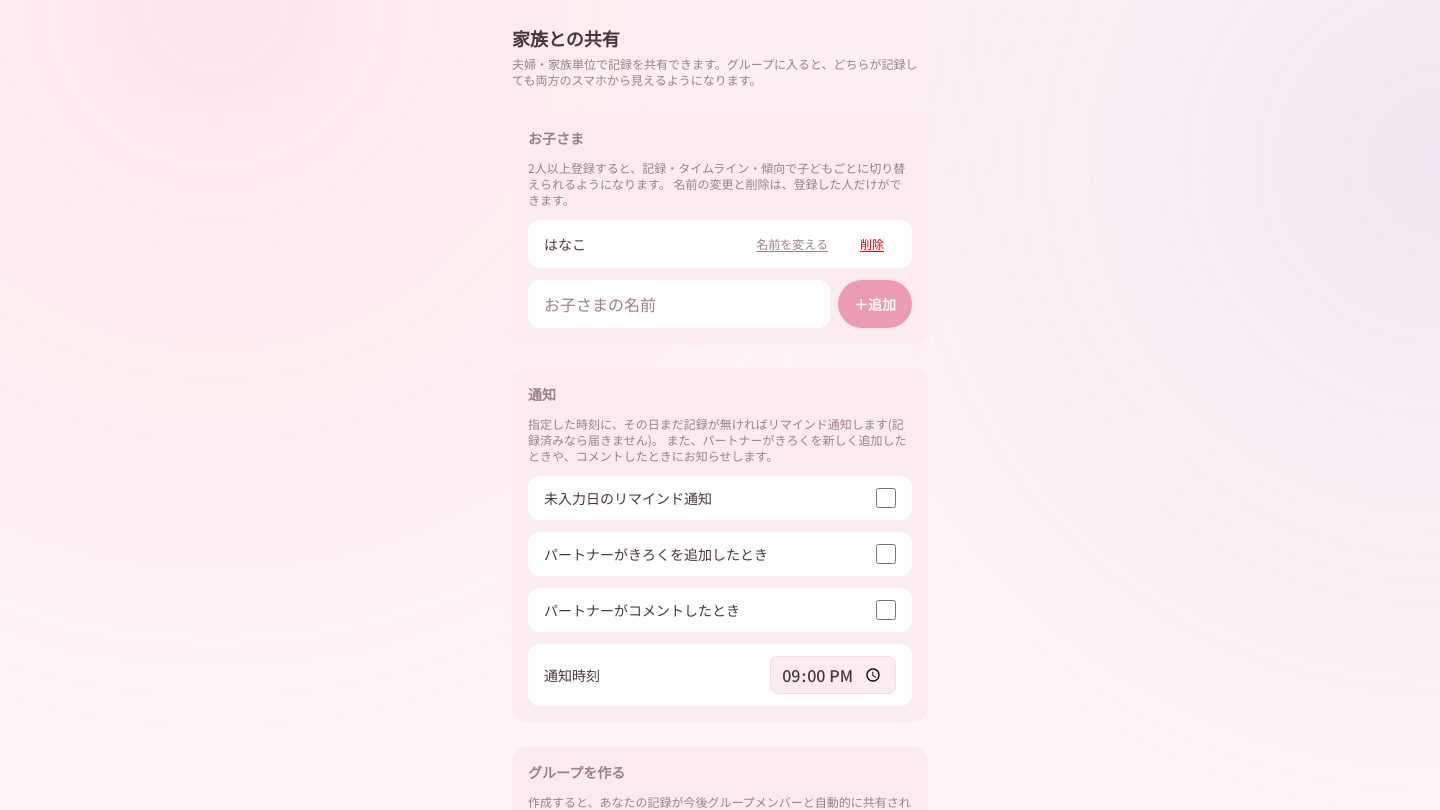
Test: GroupPage: お子さま › 名前を変えると一覧が更新され、編集欄が閉じる
The image size is (1440, 810).
Expected: the text "はなこ" is shown, [544,234,586,254]
Step 1. Click the button "名前を変える" → click(792, 244), box [744,232,840,256]
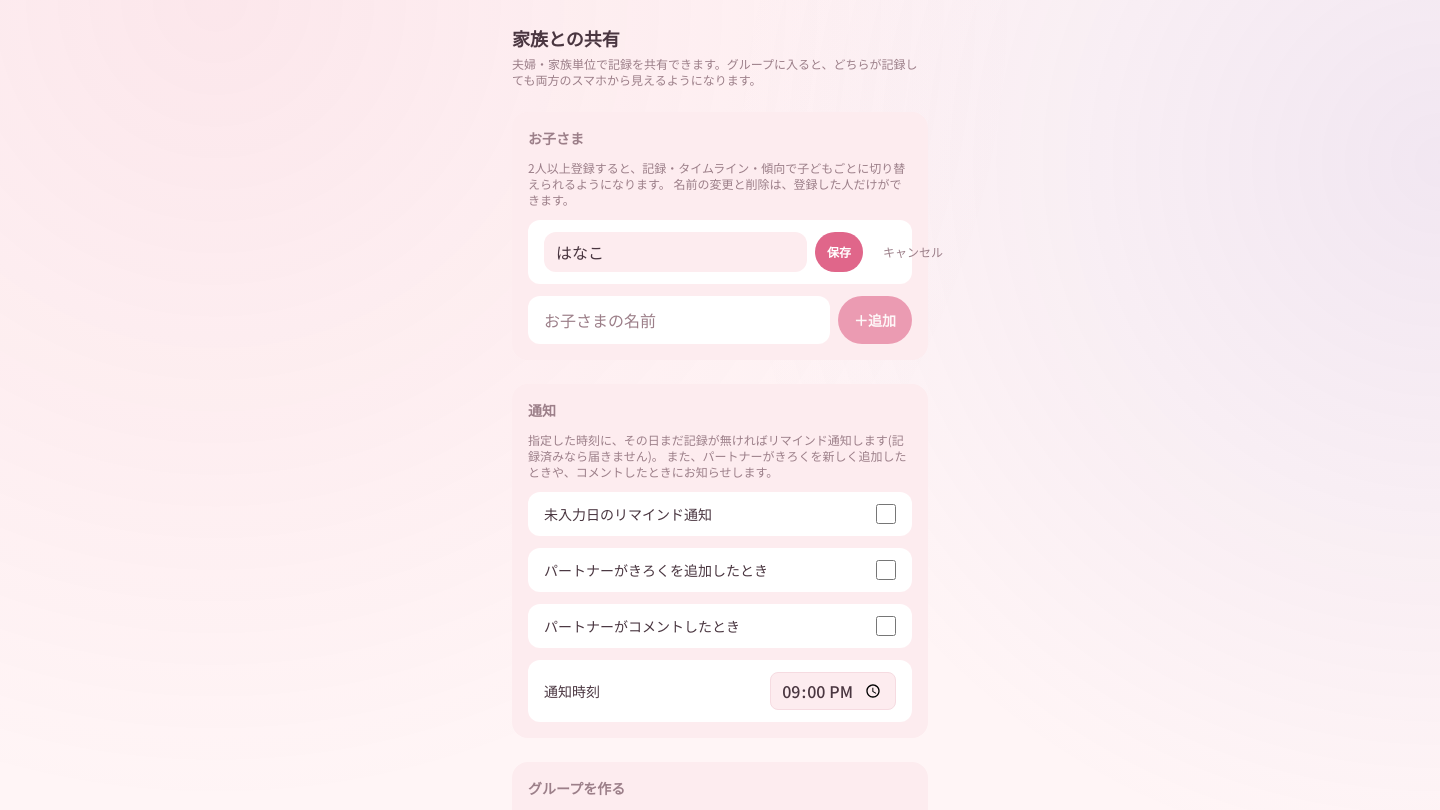
Step 2. Replace the text in the field named "お子さまの名前" with "花子" → (676, 252), box [544,232,807,272]
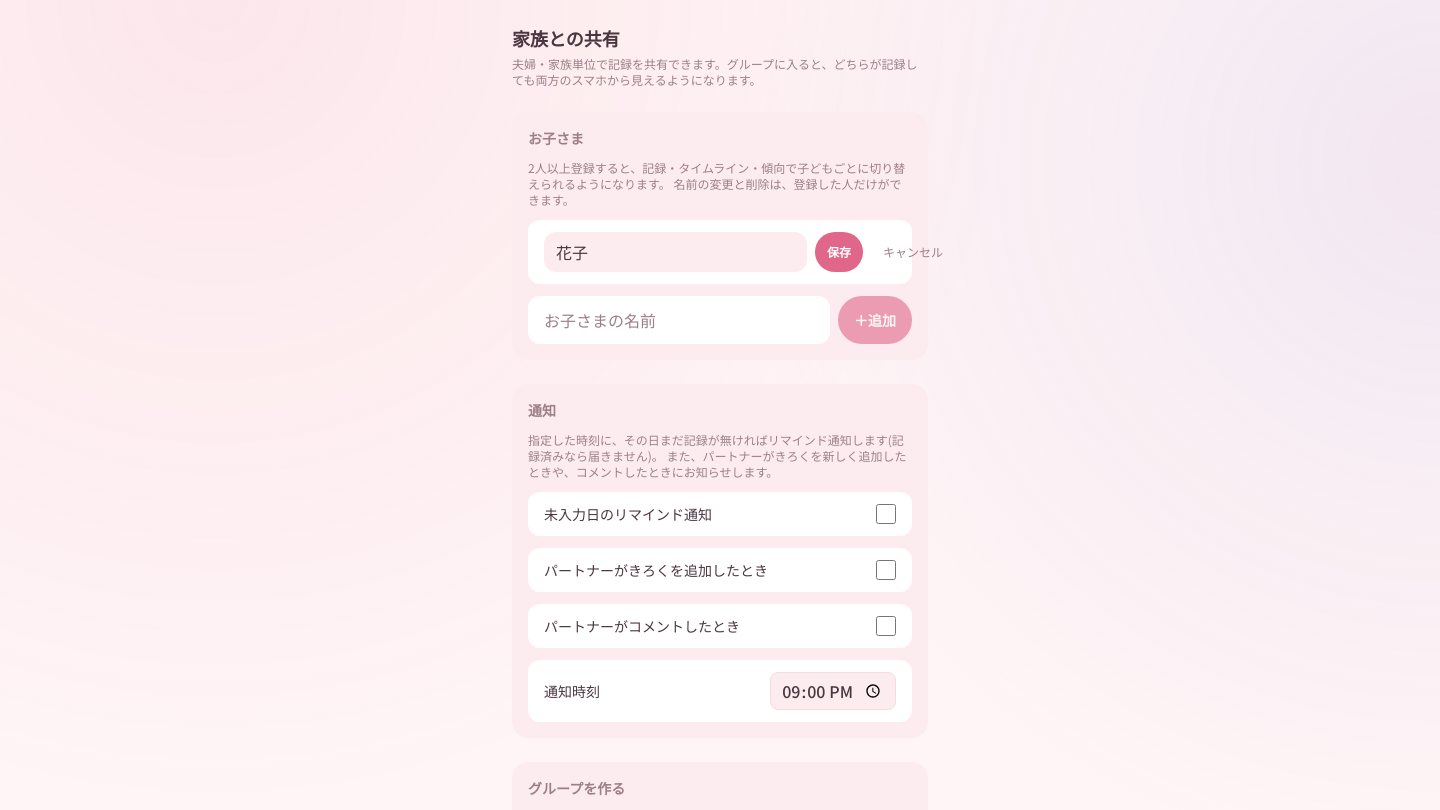
Step 3. Click the button "保存" → click(839, 252), box [815,232,863,272]
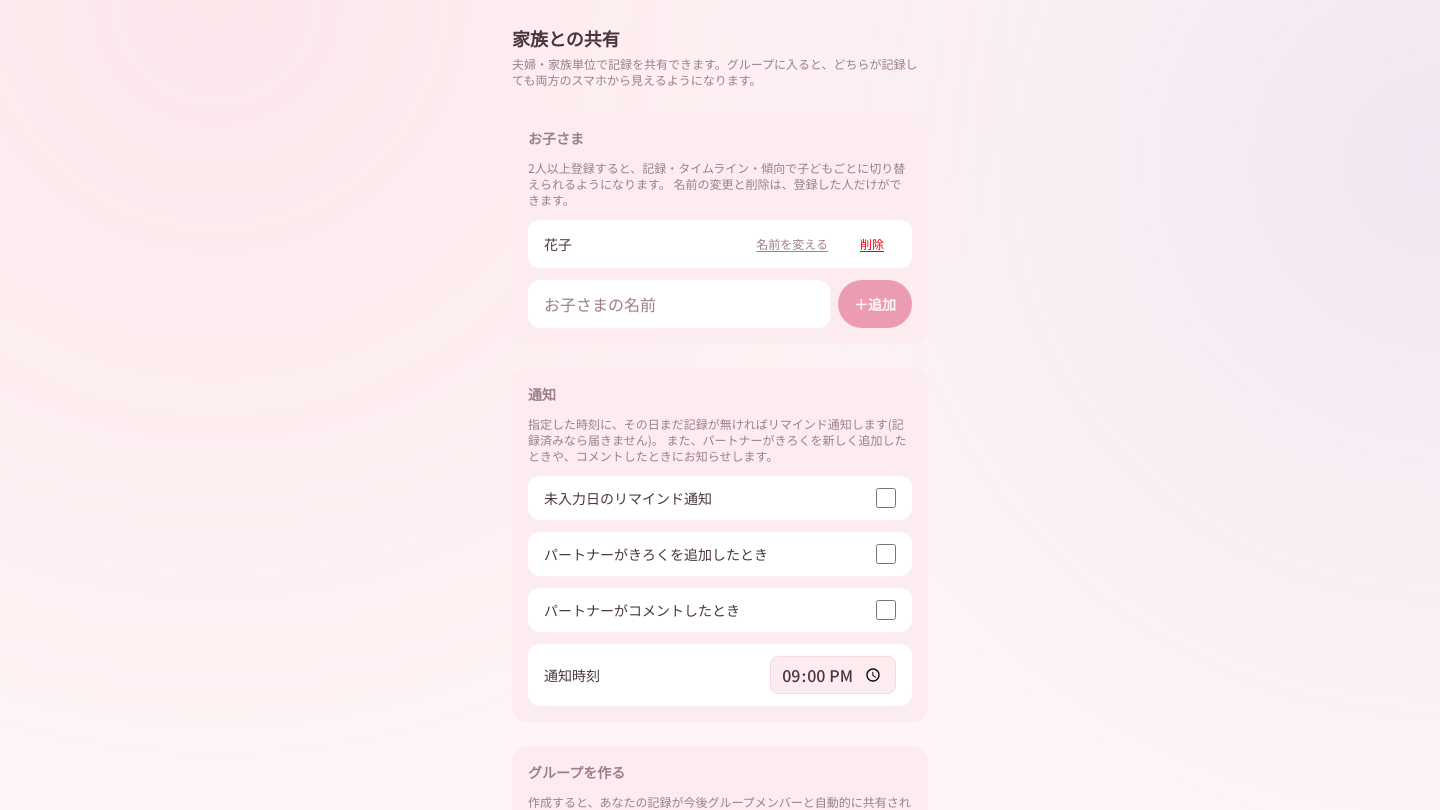
Expected: the text "花子" is shown, [544,234,572,254]
Expected: the button "保存" is gone
